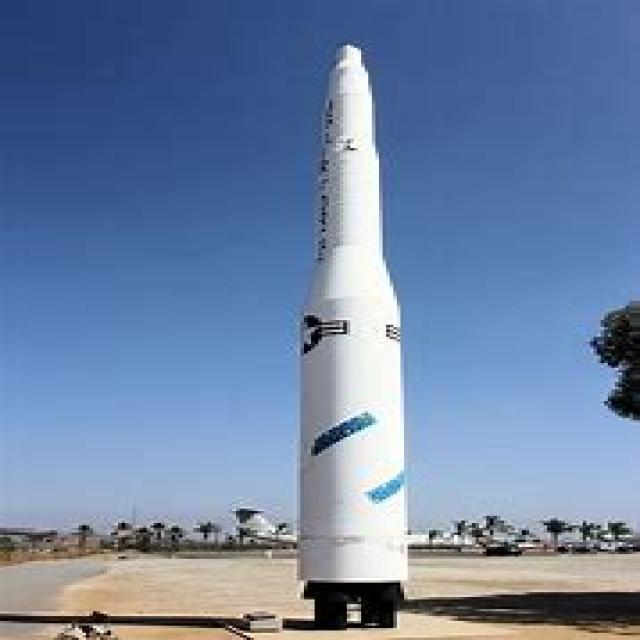missile: (294, 28, 419, 633)
